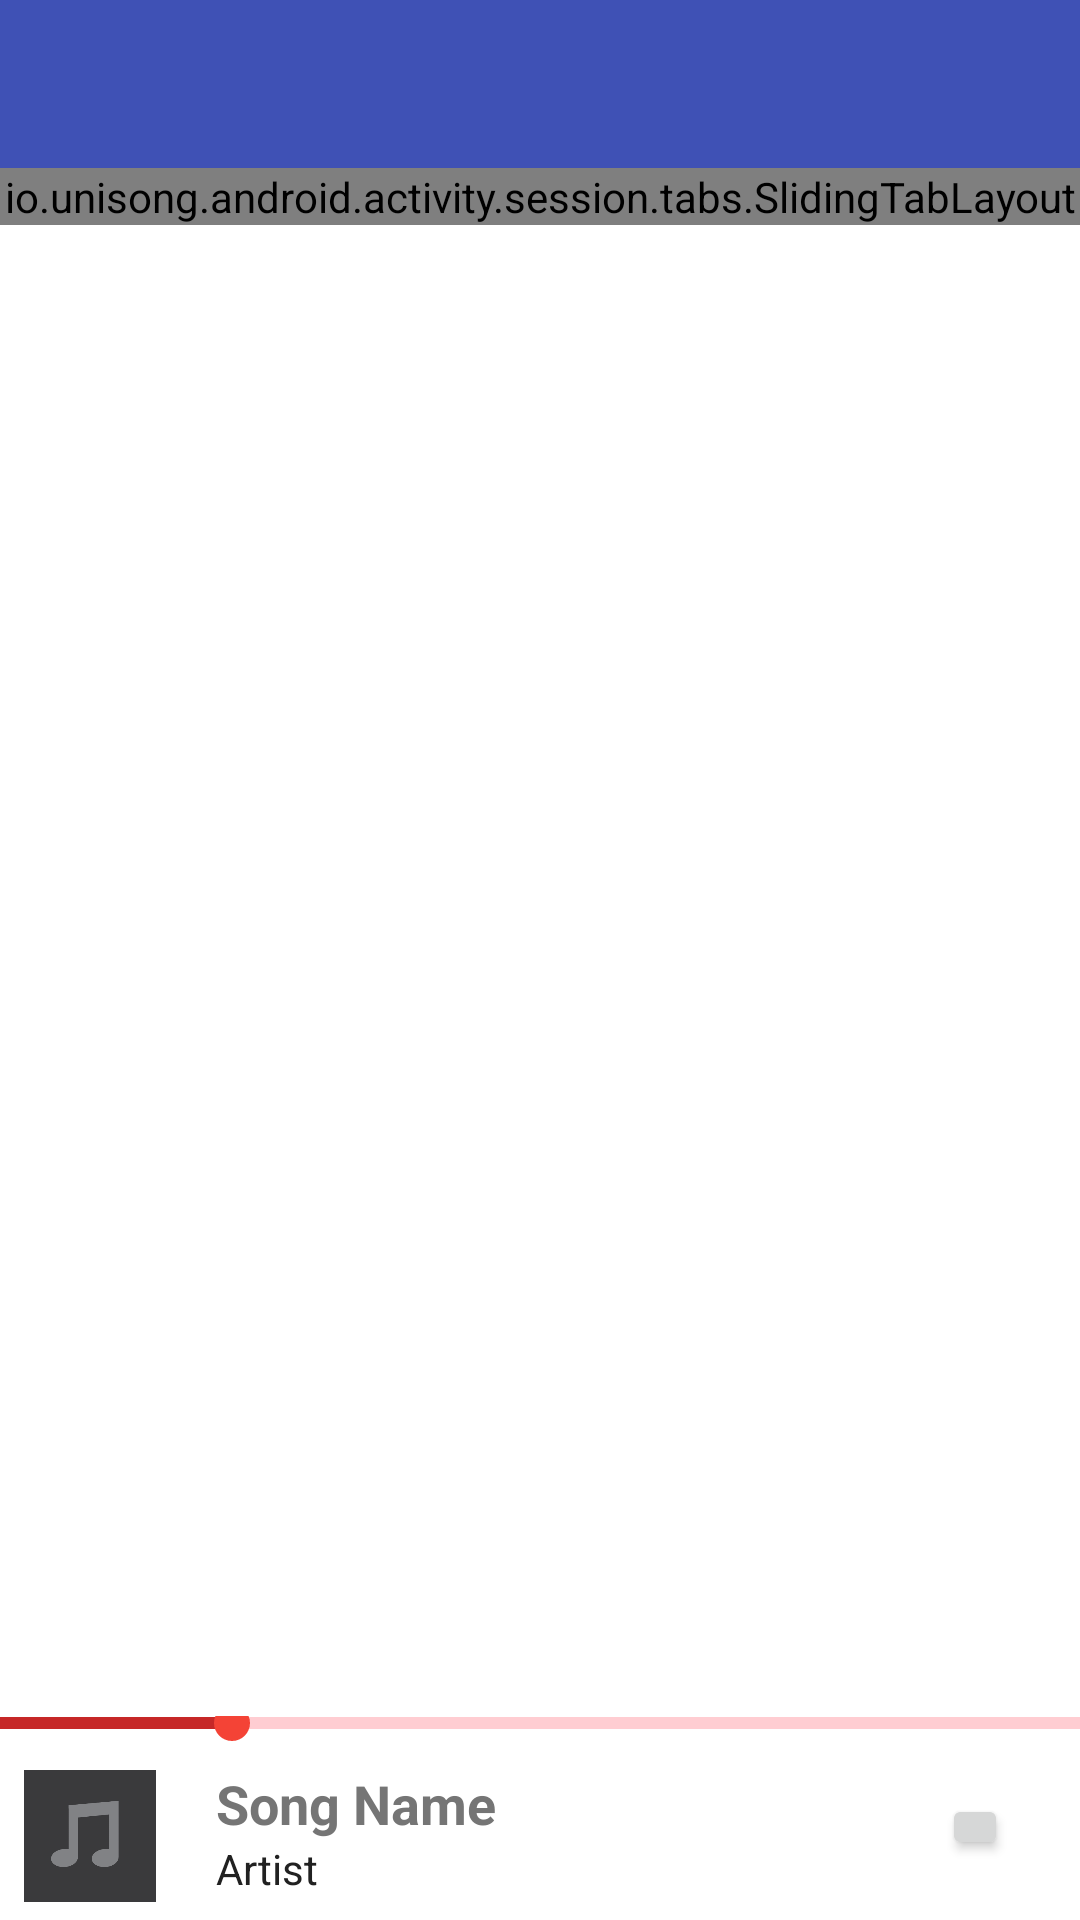

Icon click points for this 1080×1920 phone screenshot, format [x,y]:
artwork: [90,1836]
